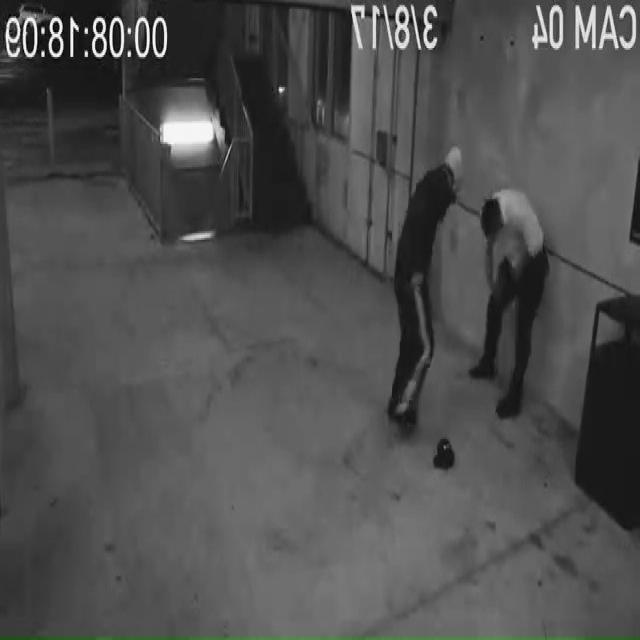fight: (384, 144, 546, 421)
